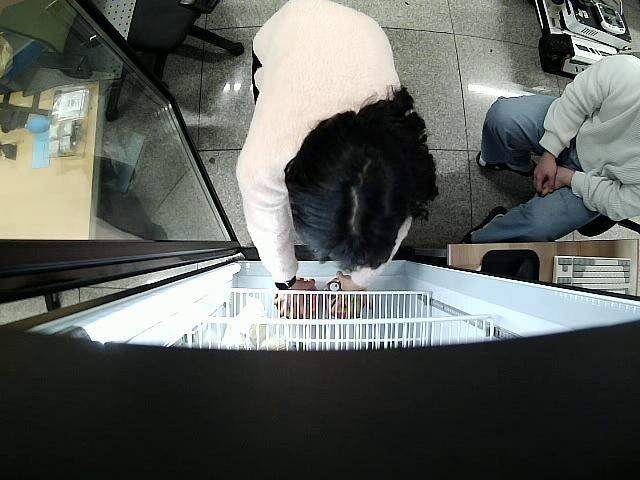05_nuguri_L: (325, 278, 362, 314)
